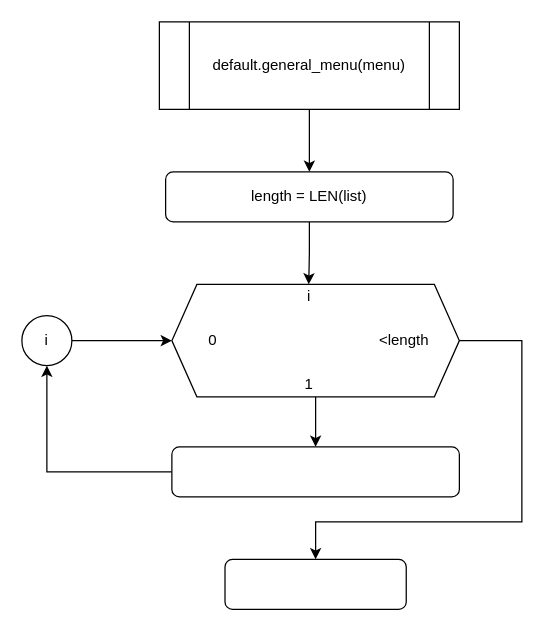
The diagram is 554 pixels wide and 631 high, and some of its shapes have lost their labels. The box of each missing label's shape, as (x1, y1, x2, y2) in pixels:
PRINT("\n"): (224, 558, 406, 609)
PRINT(str(i+1), "-", list[i]): (171, 446, 459, 497)
